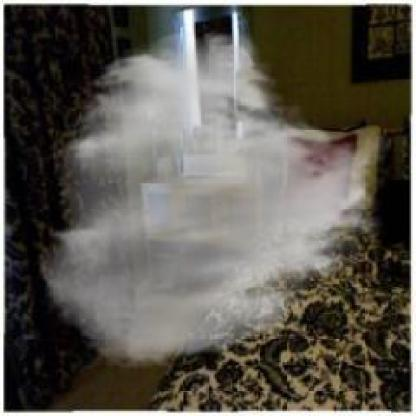Smoke: (37, 28, 393, 371)
